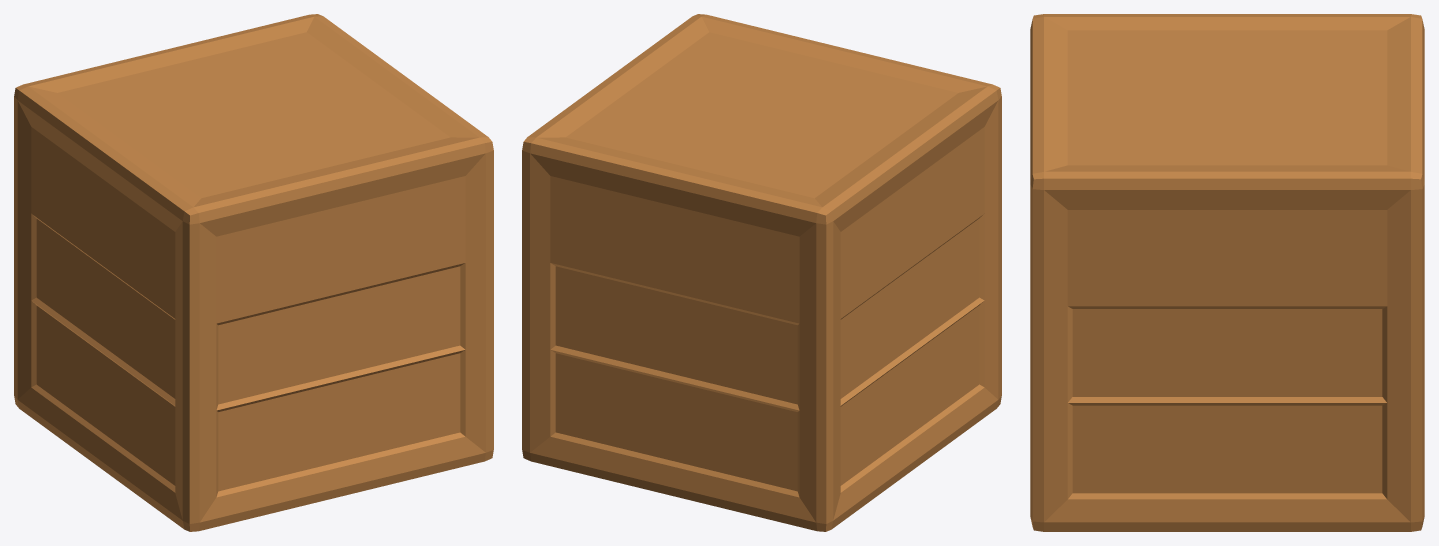
File: crate_small.glb
3 renders of one model, left to right at view 1: azimuth 30°, elevation 25°; view 2: azimuth 150°, elevation 25°; view 3: azimuth 270°, elevation 25°, orthographic. The views are drawn at different scales.
Visible parts, largest first — view 1: crate_small; view 2: crate_small; view 3: crate_small.
Part boxes in pixels (x1=…): crate_small: x1=14, y1=14, x2=493, y2=531; crate_small: x1=522, y1=14, x2=1001, y2=531; crate_small: x1=1030, y1=14, x2=1424, y2=531.
Bounding box in the file's own units: 1.2 × 1.2 × 1.2.
